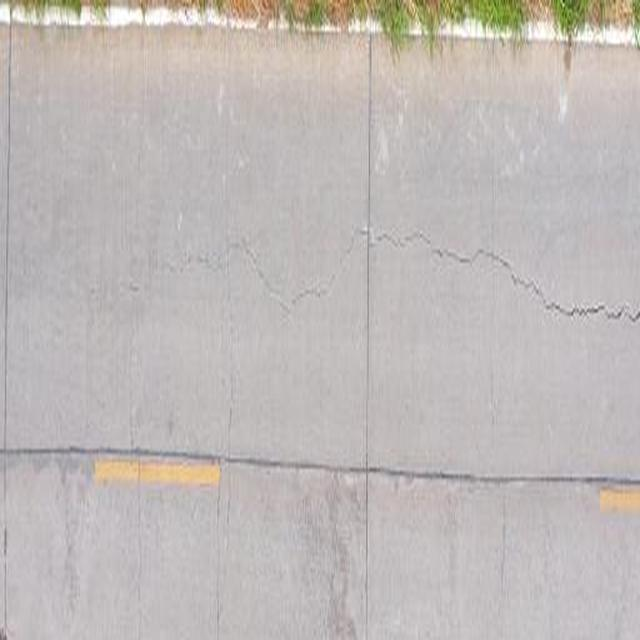minor crack: (100, 20, 189, 620), (363, 22, 470, 497), (462, 49, 516, 638), (234, 234, 347, 310), (518, 268, 635, 322), (135, 238, 246, 291), (368, 226, 481, 270), (456, 244, 528, 282), (597, 304, 636, 319)
moderate crack: (2, 2, 632, 45), (212, 32, 243, 633), (0, 0, 17, 580), (357, 25, 372, 628), (57, 469, 86, 631), (373, 107, 392, 171), (213, 83, 228, 119), (451, 249, 473, 264), (175, 210, 184, 231), (0, 623, 11, 640), (126, 281, 140, 292)
severe crack: (492, 485, 633, 633), (320, 478, 366, 639), (340, 469, 357, 490), (354, 223, 374, 239), (1, 521, 8, 566)
